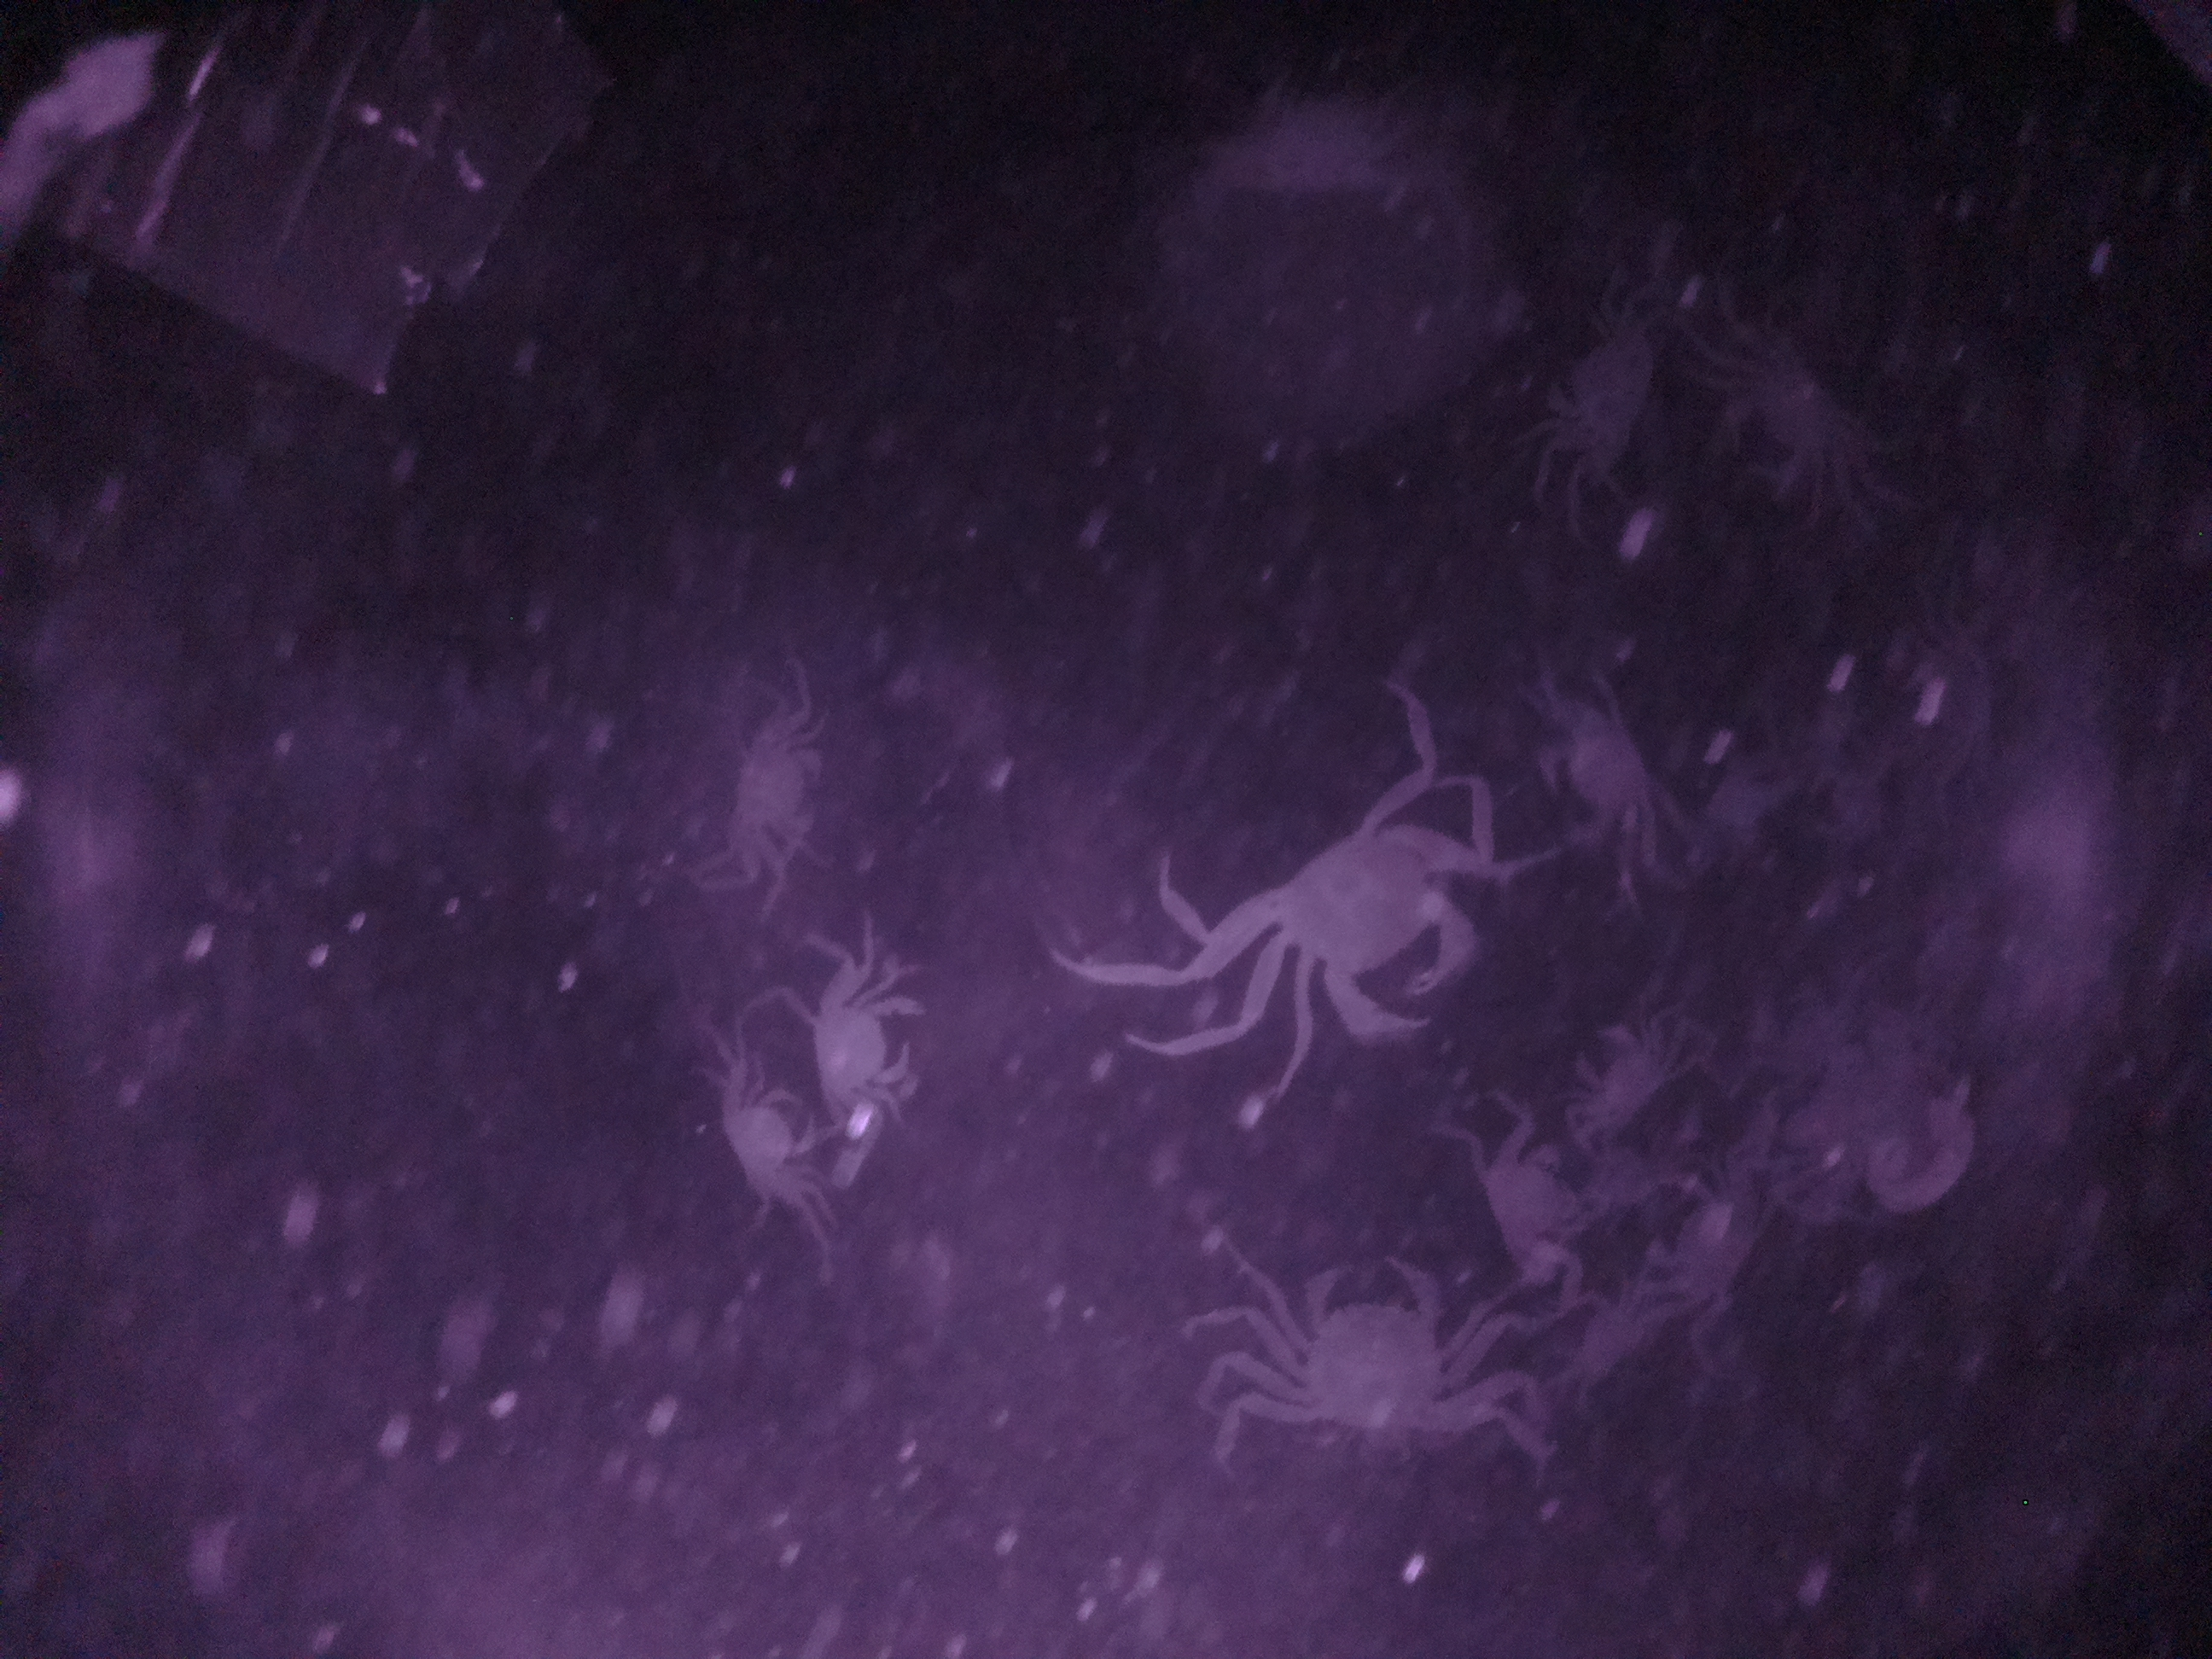Crab: (1219, 809, 1486, 1063), (1249, 1248, 1487, 1441), (1529, 293, 1662, 502), (794, 951, 939, 1129), (704, 709, 846, 871), (1534, 699, 1665, 866), (1467, 1122, 1592, 1276), (707, 1060, 812, 1234)
